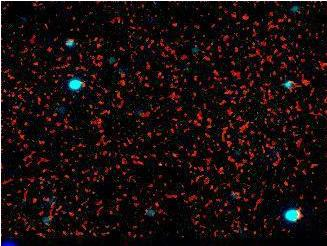star: (232, 1, 262, 31)
